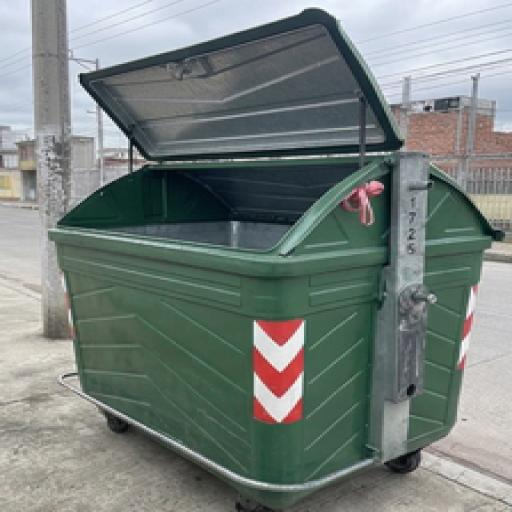Basura_fuera: (48, 9, 501, 507), (55, 75, 510, 510)
Contenedor_Vacio: (55, 75, 510, 510)
